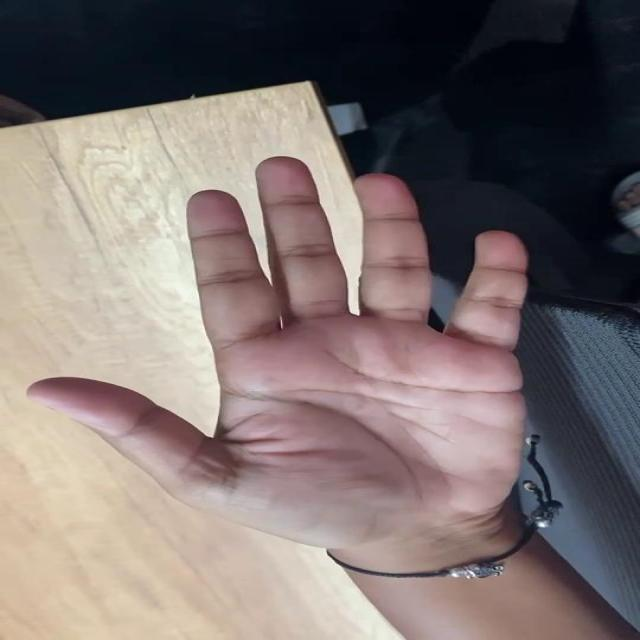no-gloves: (23, 134, 624, 602)
